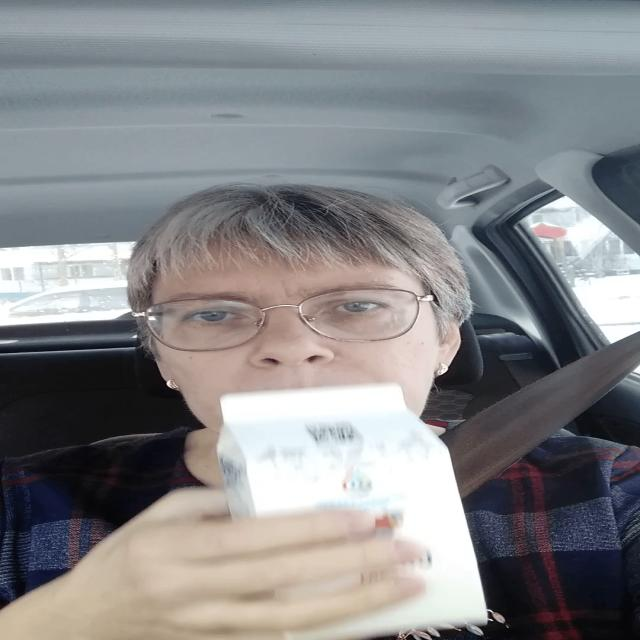3: (445, 331, 640, 494)
Seatbelt: (202, 376, 505, 634)
